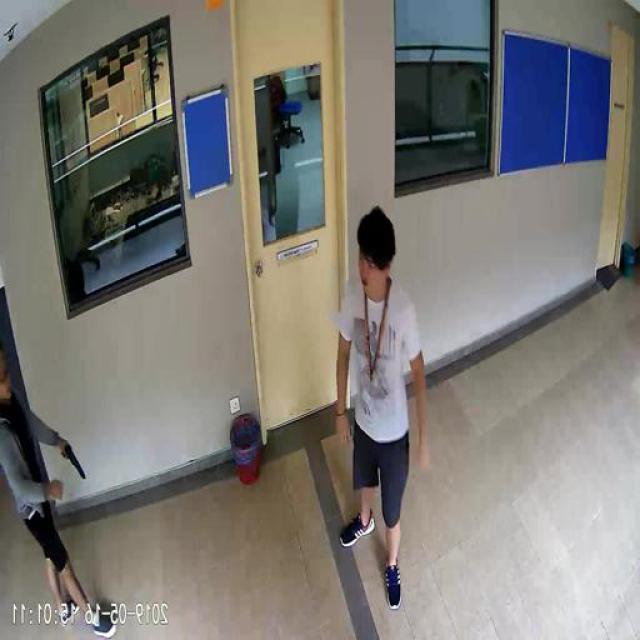Gun: (64, 438, 88, 478)
